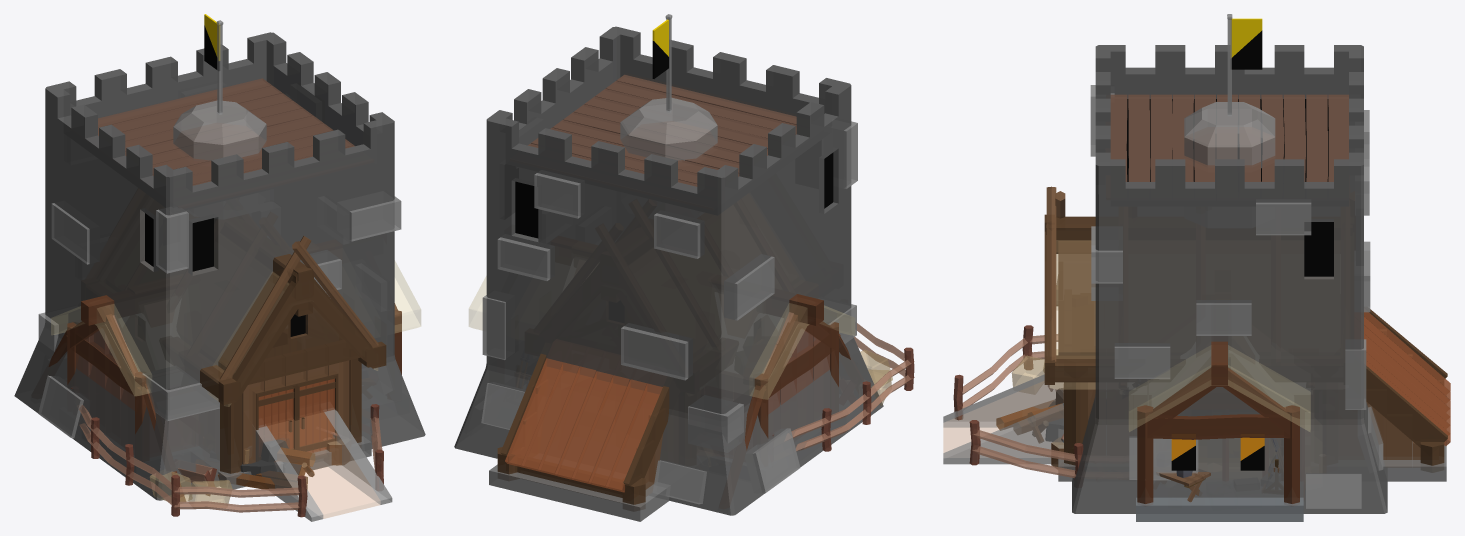
Rendered from Houses.fbx.
3 renders of one model, left to right at view 1: azimuth 30°, elevation 25°; view 2: azimuth 150°, elevation 25°; view 3: azimuth 270°, elevation 25°, orthographic. The views are drawn at different scales.
Parts seen in each view (by area): view 1: Tower1, Barn, House4, House7, sawmill, StoneMine; view 2: Tower1, Barn, House4, House7; view 3: Tower1, Barn, House4, House7, sawmill.
Part boxes in pixels (<box>): Tower1: <box>14,14,425,521</box>; Barn: <box>200,235,386,489</box>; House4: <box>48,261,420,501</box>; House7: <box>71,388,383,517</box>; sawmill: <box>217,430,349,495</box>; StoneMine: <box>240,438,301,475</box>; Tower1: <box>454,14,883,515</box>; Barn: <box>489,353,670,521</box>; House4: <box>469,276,854,450</box>; House7: <box>772,323,914,451</box>; Tower1: <box>943,14,1387,513</box>; Barn: <box>1044,186,1450,481</box>; House4: <box>1129,341,1310,521</box>; House7: <box>953,325,1083,480</box>; sawmill: <box>996,400,1063,467</box>.
Size of the model in its own units: 6.73 by 8.51 by 9.01.
